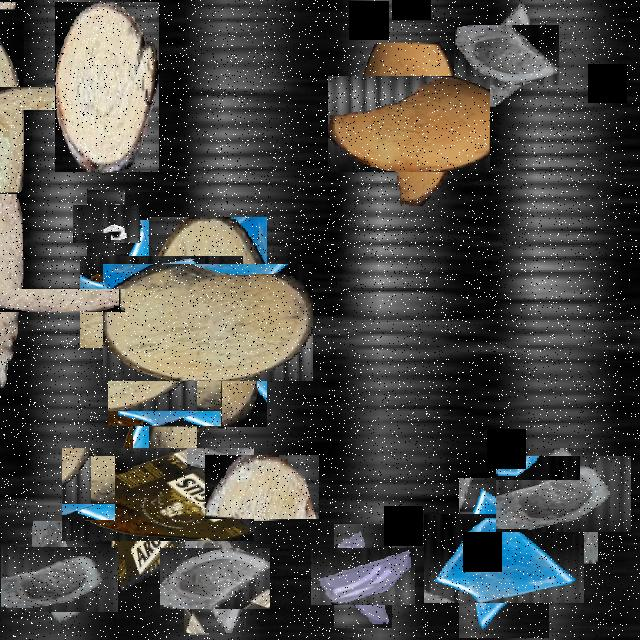glass: (97, 238, 225, 366), (442, 496, 566, 620), (510, 441, 616, 547), (14, 534, 106, 625), (120, 350, 210, 439), (172, 535, 258, 621), (464, 13, 548, 97), (322, 536, 403, 616)
metal: (80, 198, 132, 250)
plastic: (86, 422, 230, 566)
wood: (126, 240, 290, 404), (55, 2, 159, 172), (344, 60, 474, 189), (0, 237, 74, 363), (205, 455, 319, 519), (0, 44, 66, 152)
